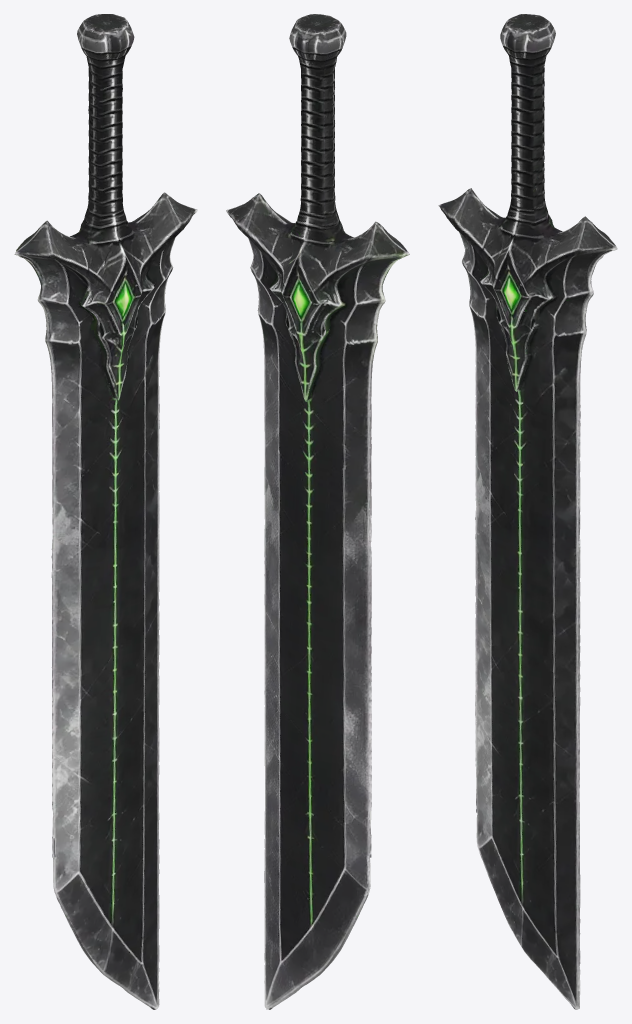
The model's file is ansem-sword.glb.
3 renders of one model, left to right at view 1: azimuth 30°, elevation 25°; view 2: azimuth 150°, elevation 25°; view 3: azimuth 330°, elevation 25°, orthographic. The views are drawn at different scales.
Parts seen in each view (by area): view 1: Mesh_0; view 2: Mesh_0; view 3: Mesh_0.
Part boxes in pixels (box(x1,y1,x2,y2)): Mesh_0: box(14, 14, 197, 1009); Mesh_0: box(226, 14, 409, 1009); Mesh_0: box(438, 14, 617, 1009).
Bounding box in the file's own units: 0.3625 × 1.89 × 0.1469.
1 material, 1 textured.
